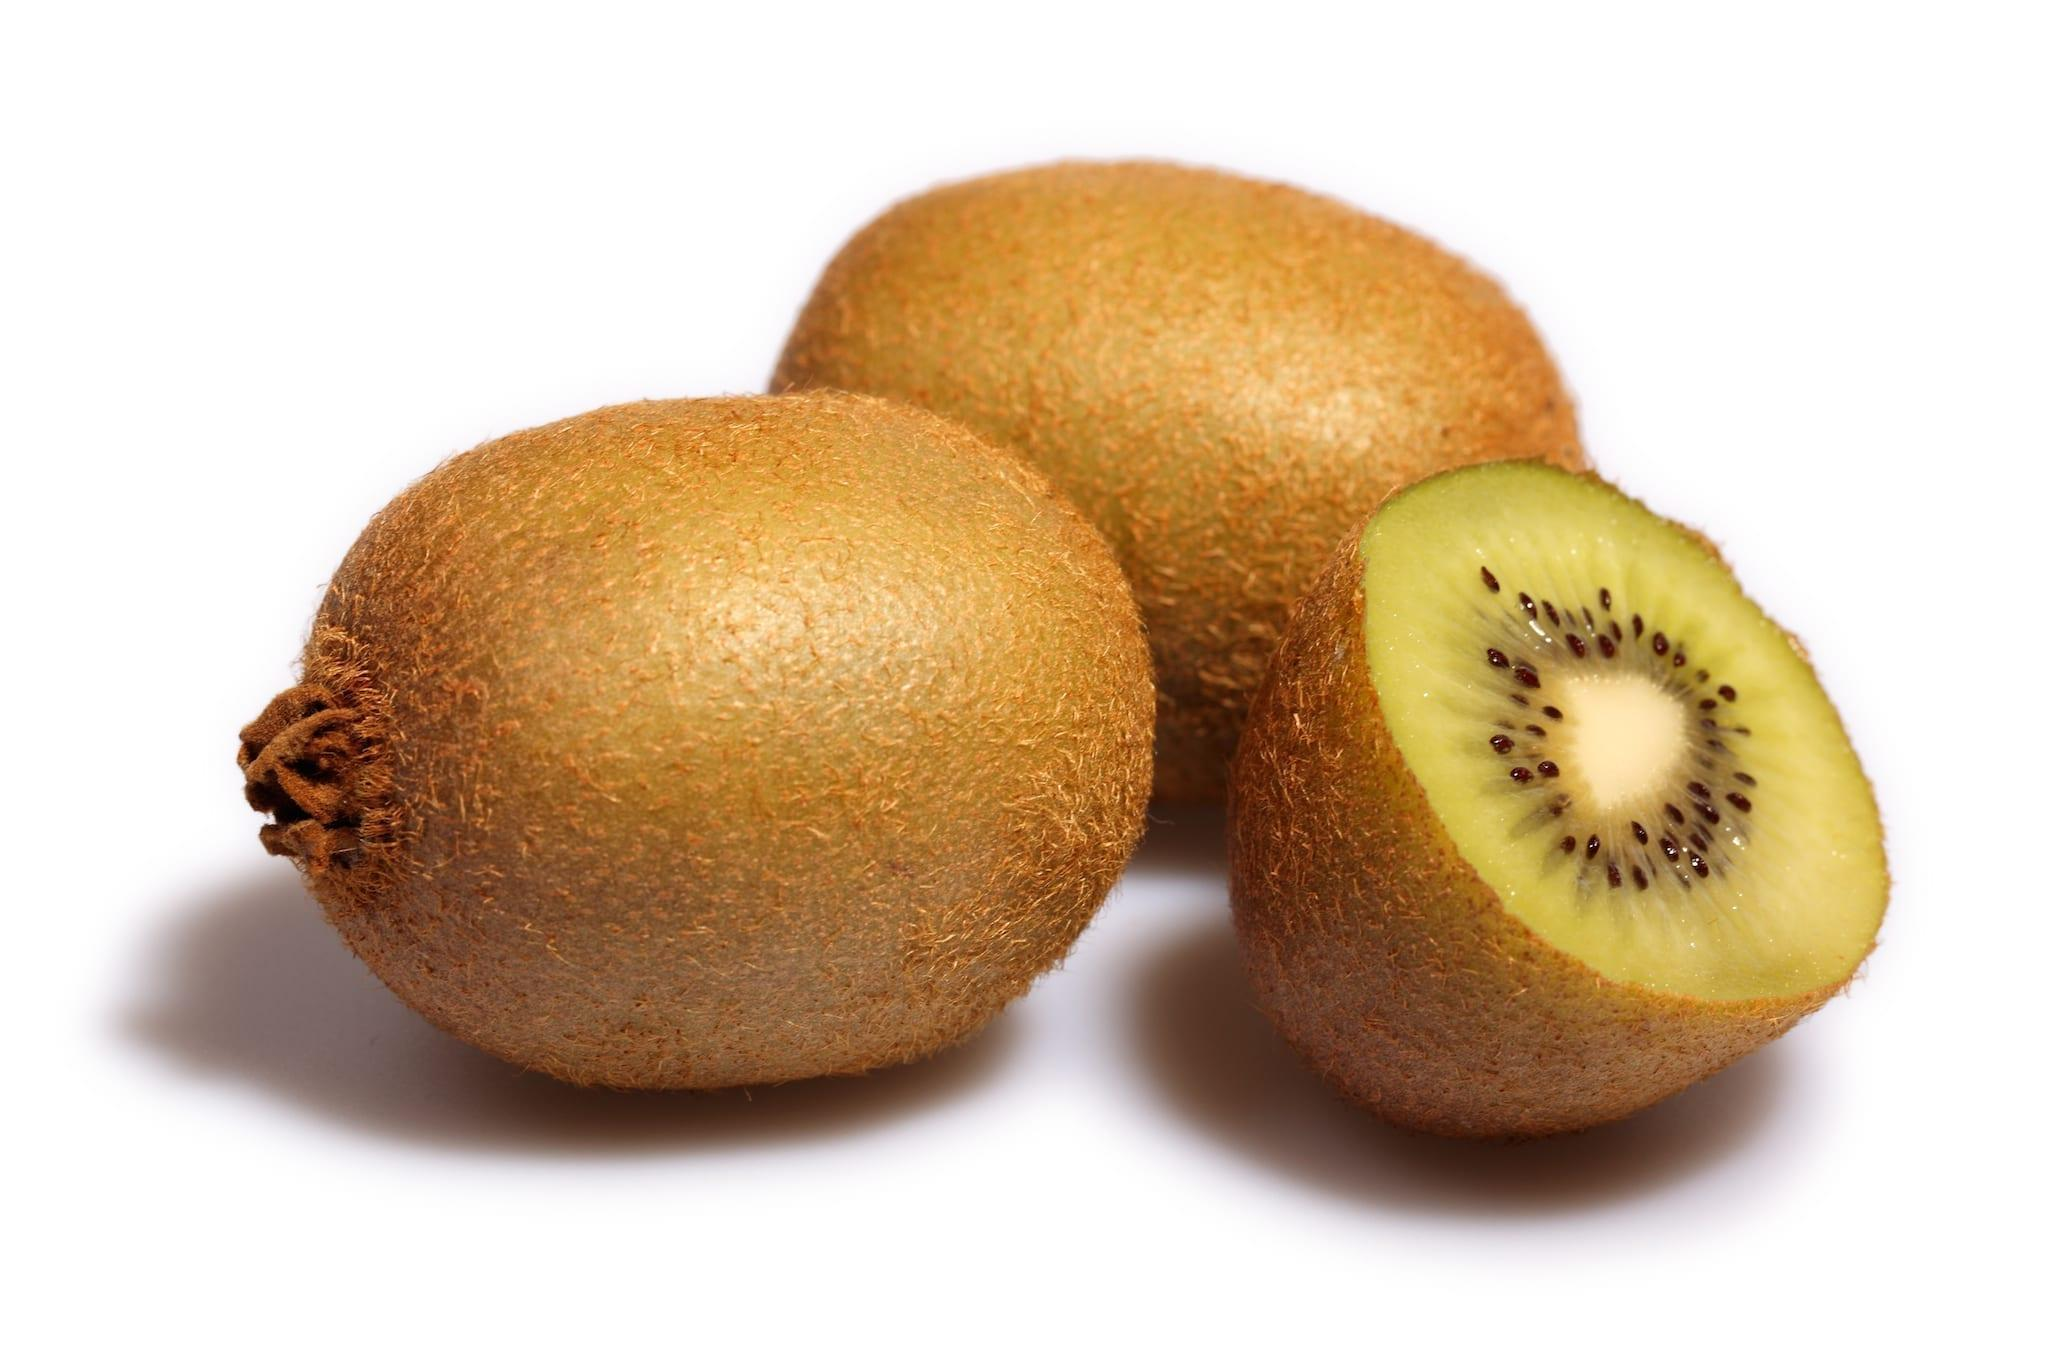kiwi: (227, 395, 1162, 1094), (1233, 465, 1896, 1158), (796, 145, 1591, 536)
